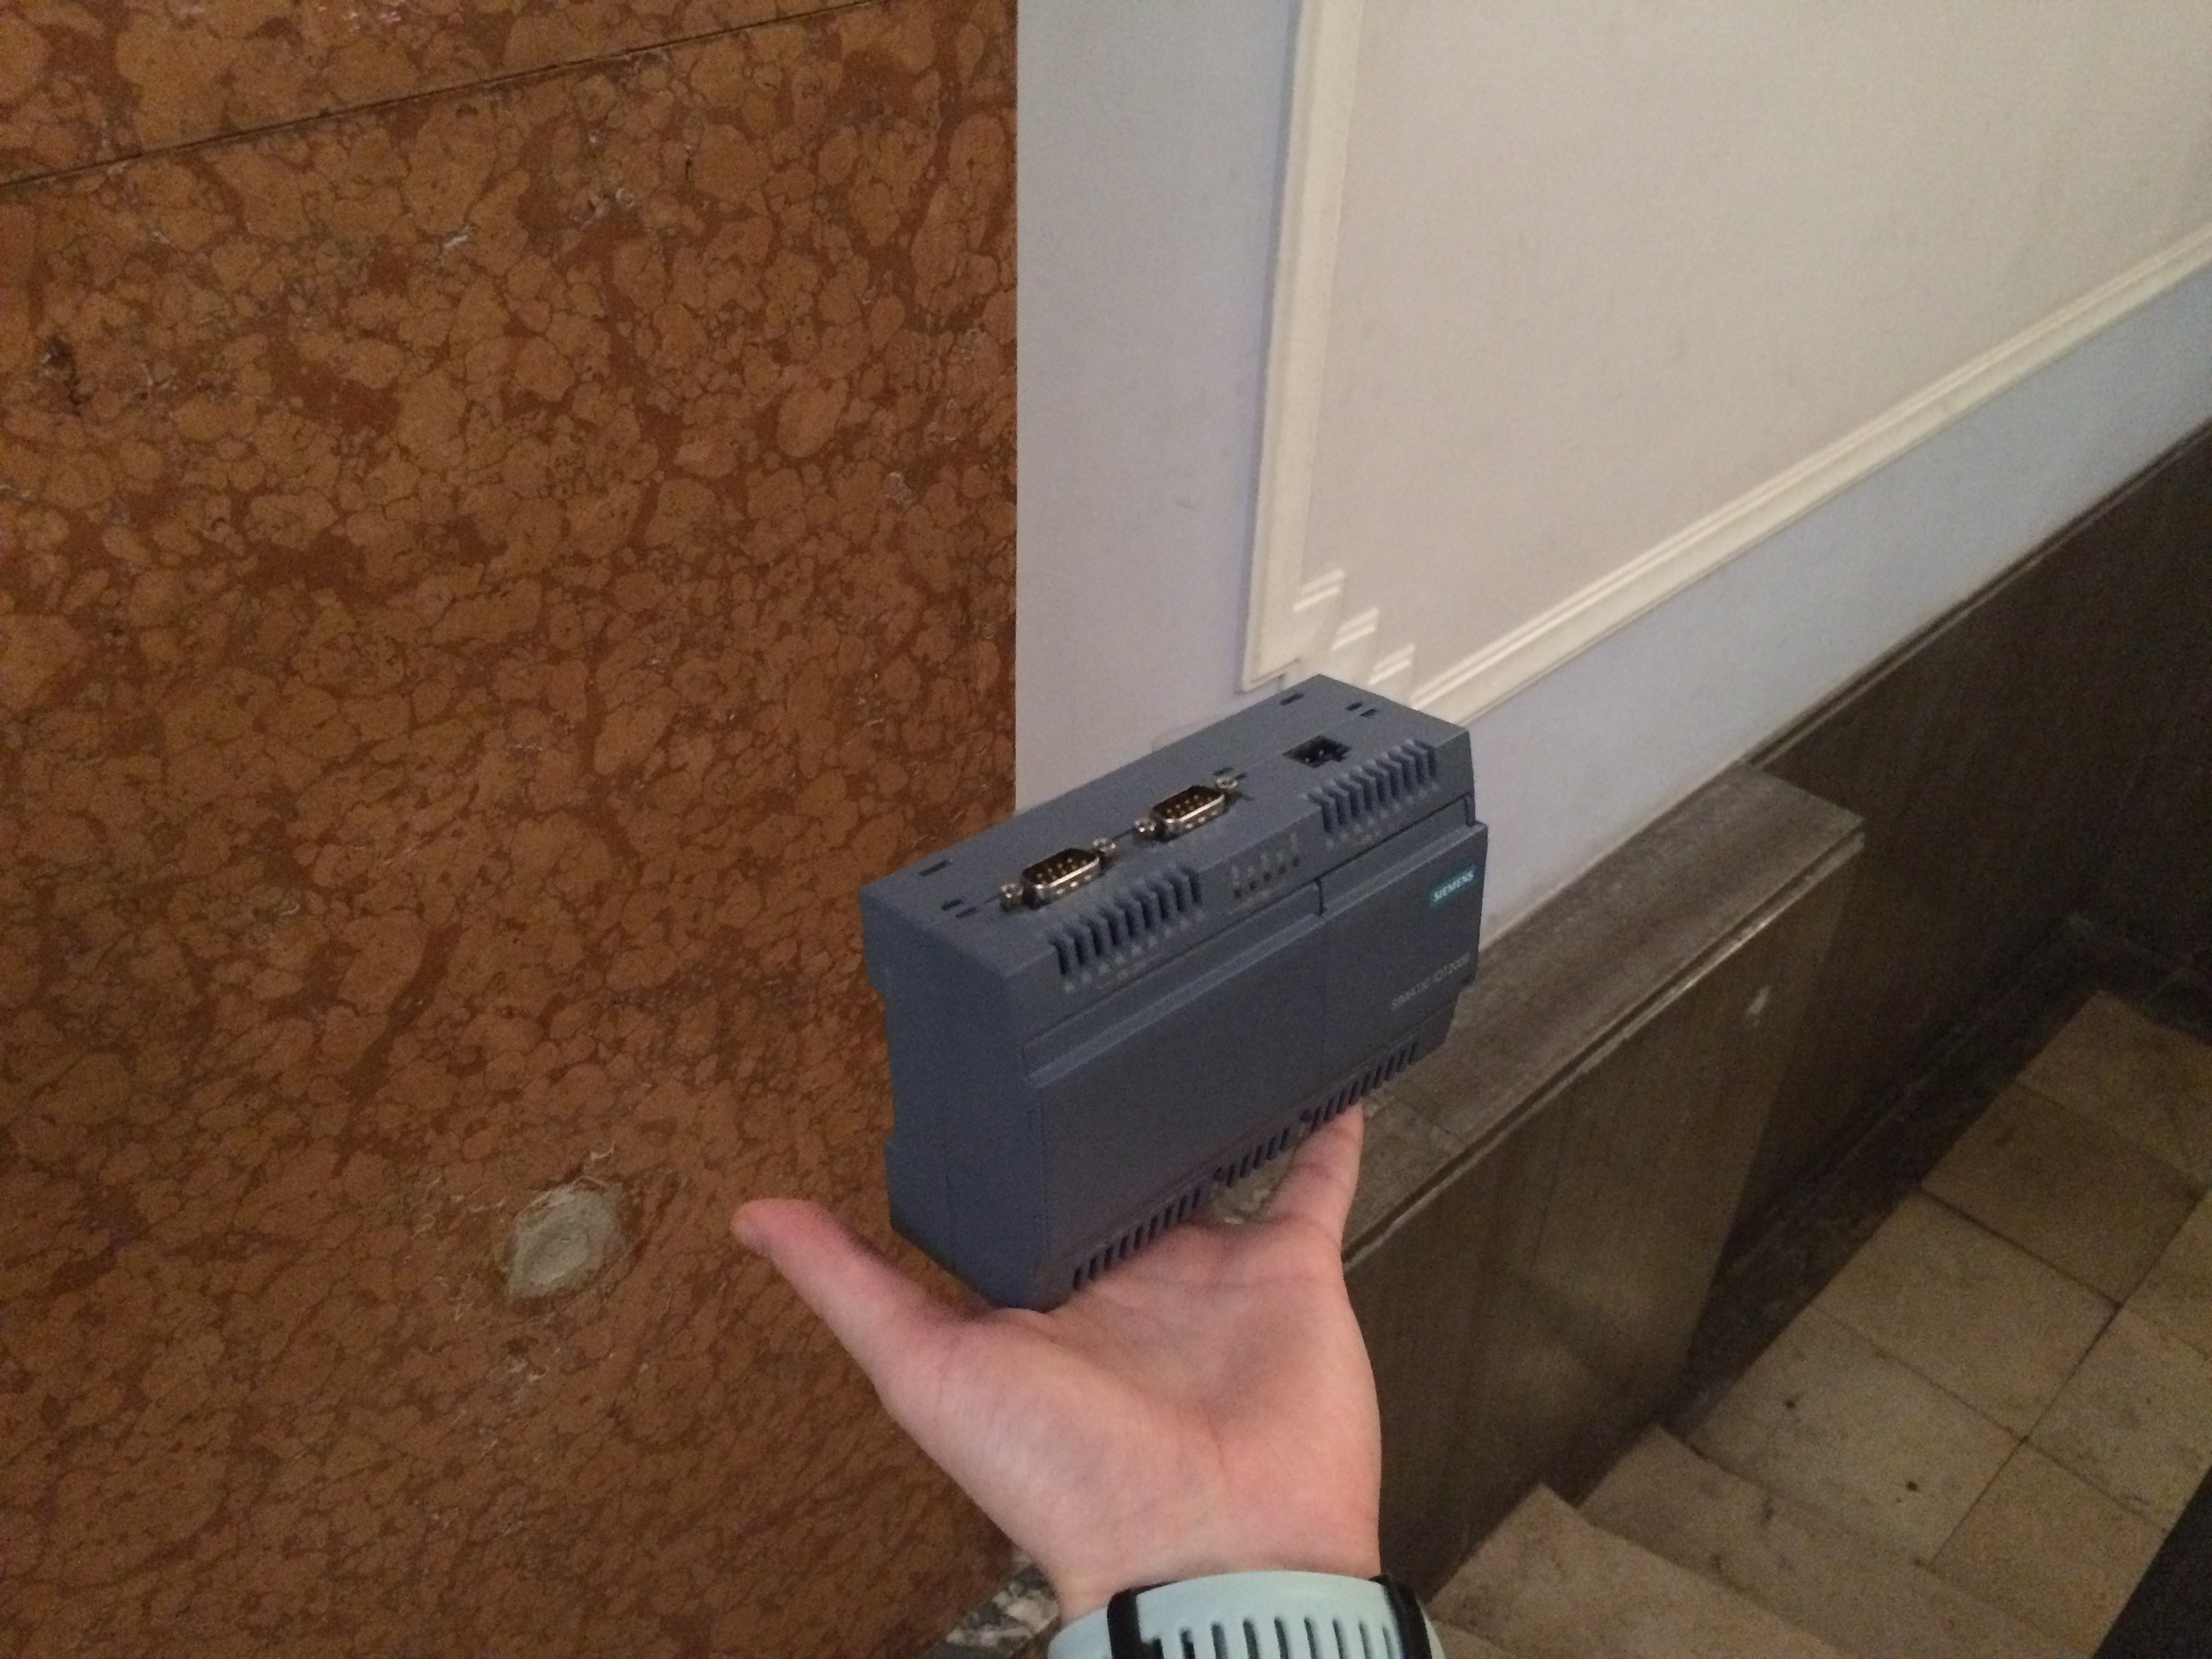iot2000: (855, 667, 1493, 1323)
